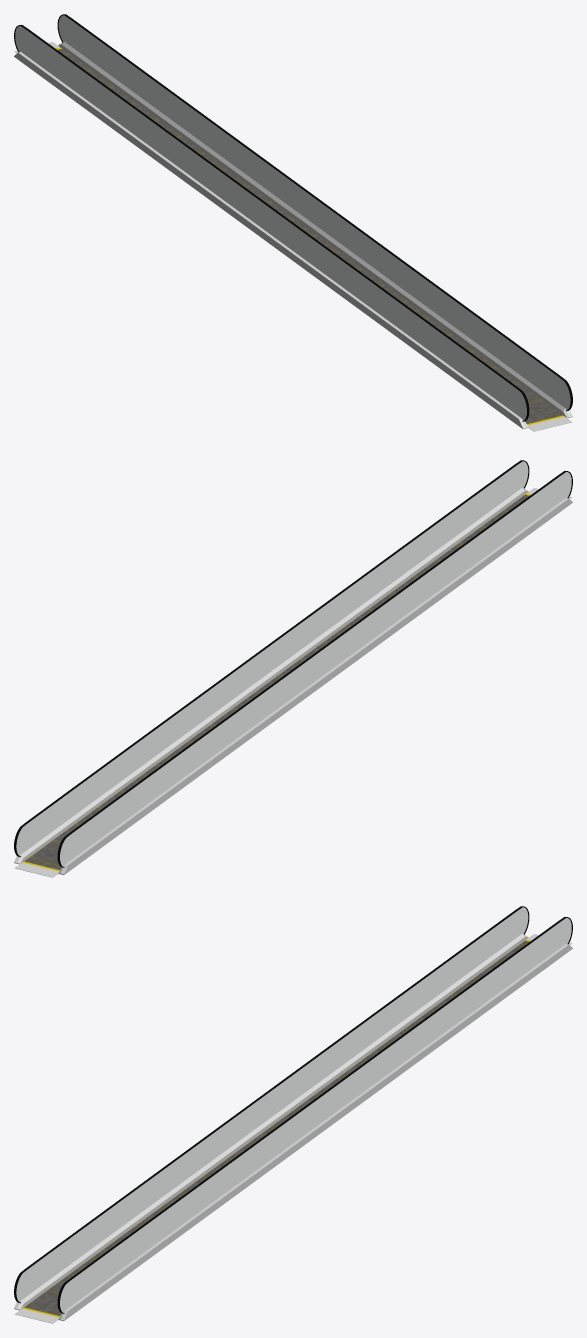
File: RealisticMovingWalkwayLong.fbx
3 renders of one model, top to bottom at view 1: azimuth 30°, elevation 25°; view 2: azimuth 150°, elevation 25°; view 3: azimuth 330°, elevation 25°, orthographic.
Parts seen in each view (by area): view 1: Glass Panel, SideMetal, Handrail, Walkway; view 2: Glass Panel, SideMetal, Handrail, Walkway; view 3: Glass Panel, SideMetal, Handrail, Walkway.
Part boxes in pixels (box(x1,y1,x2,y2)): Glass Panel: box(15, 15, 570, 420); SideMetal: box(14, 41, 572, 428); Handrail: box(14, 14, 572, 421); Walkway: box(58, 49, 562, 423); Glass Panel: box(16, 461, 571, 866); SideMetal: box(14, 487, 572, 874); Handrail: box(14, 460, 572, 867); Walkway: box(24, 495, 528, 869); Glass Panel: box(16, 907, 571, 1312); SideMetal: box(14, 933, 572, 1320); Handrail: box(14, 906, 572, 1313); Walkway: box(24, 941, 528, 1315).
Bounding box in the file's own units: 172 × 260 × 4690.
Materials: 8 (1 with a texture image).
